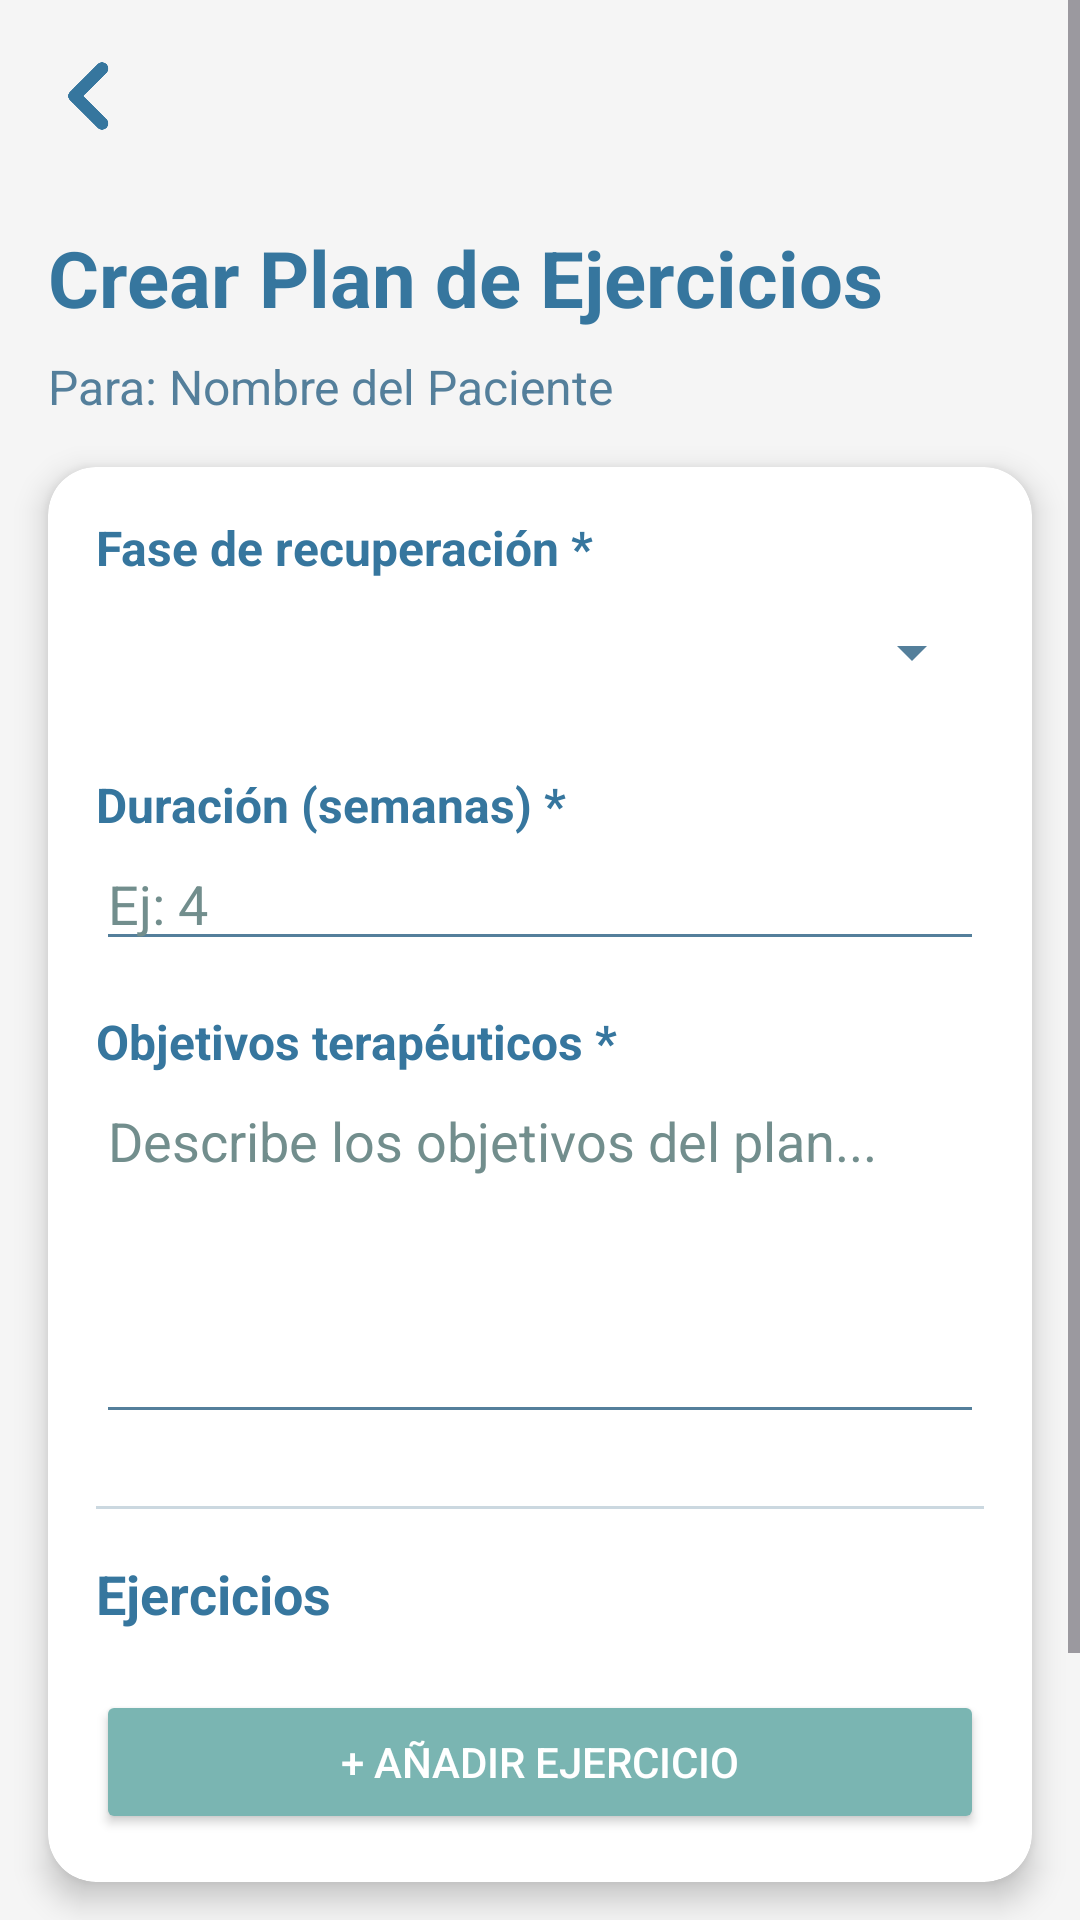

Screen size 1080px×1920px. Icon name, then its box in pixels as (x1, y1, x2, y2):
back: (68, 62, 108, 130)
